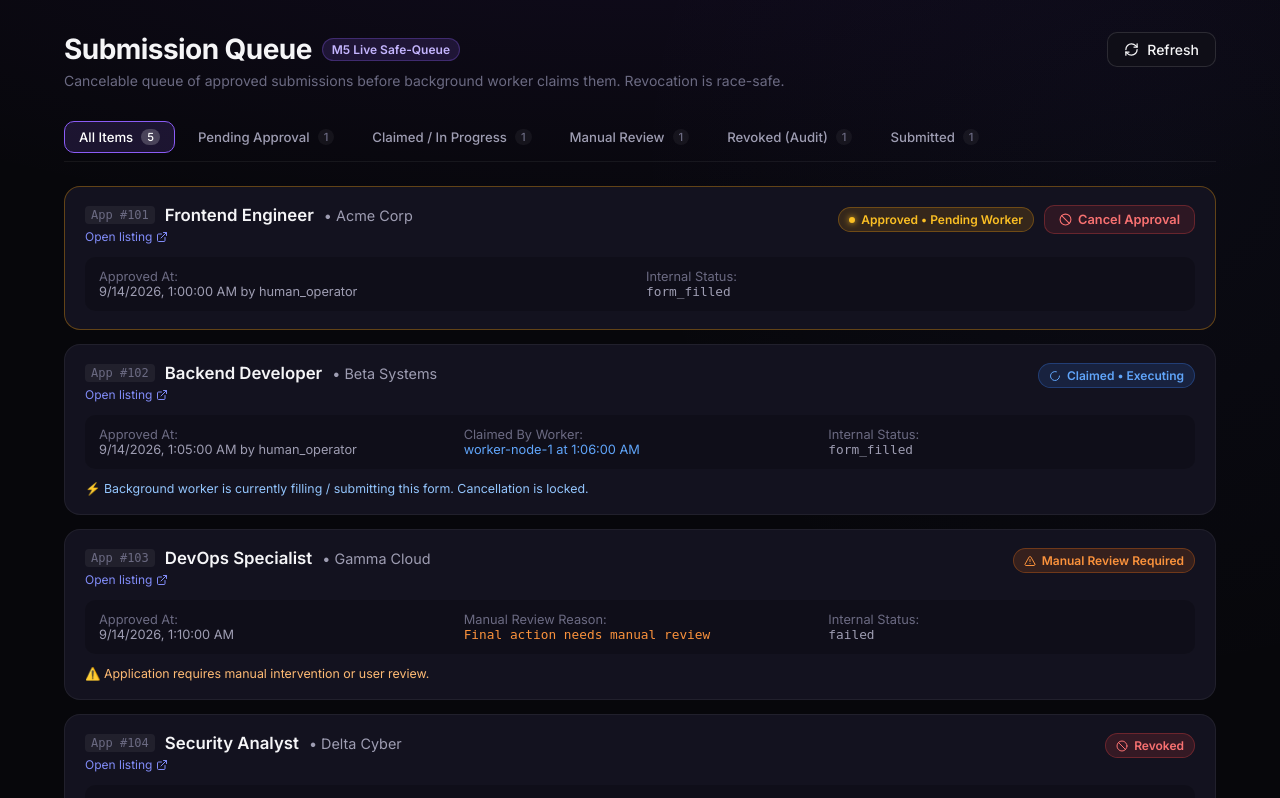
Scenario: SubmissionQueuePage › 4. Confirmation modal names the exact application and company
Expected: the heading "Frontend Engineer" is shown, left=165, top=205, right=314, bottom=225
Click the button "Cancel Approval". click: coordinates (1120, 220)
box: left=1044, top=205, right=1195, bottom=234
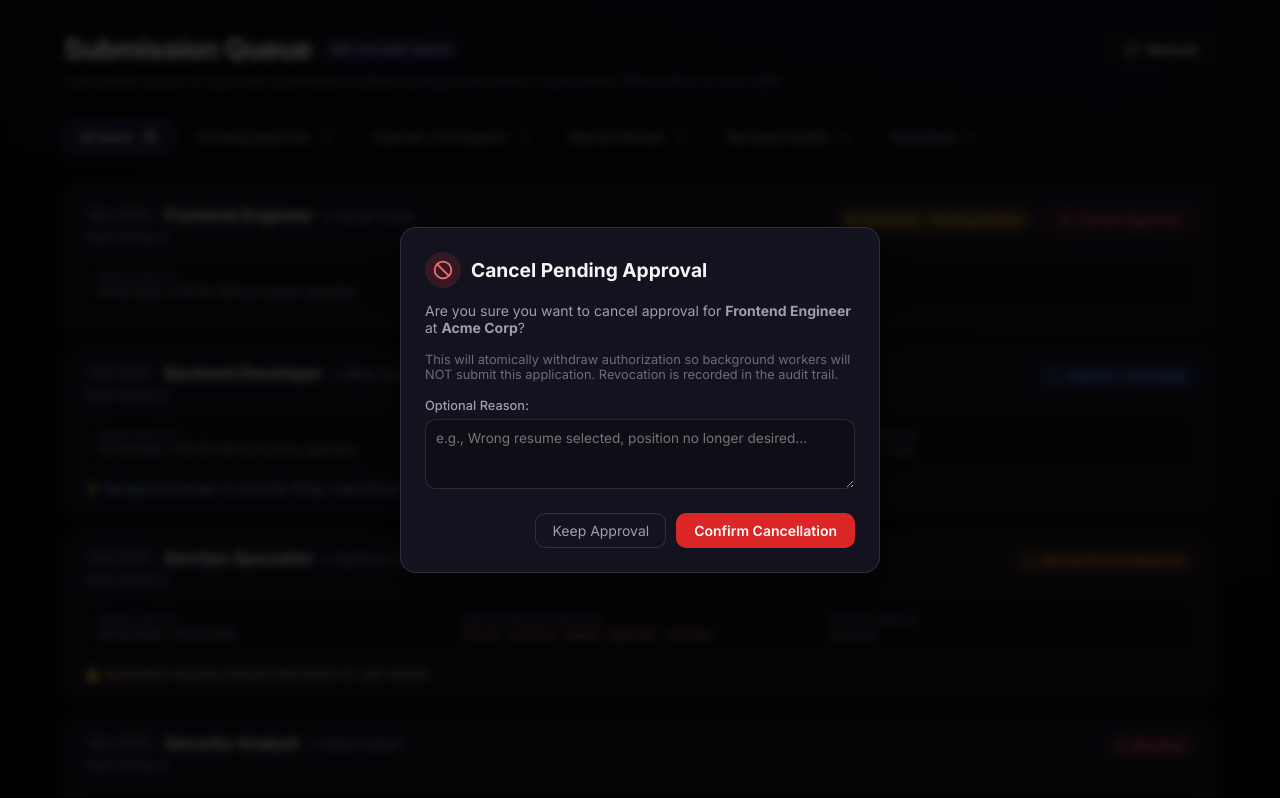
Result: the heading "Cancel Pending Approval" is shown at left=471, top=258, right=707, bottom=282
Result: the text "Acme Corp" is shown at left=441, top=319, right=518, bottom=336
Result: the text "Are you sure you want to cancel approval for" is shown at left=425, top=302, right=721, bottom=319
